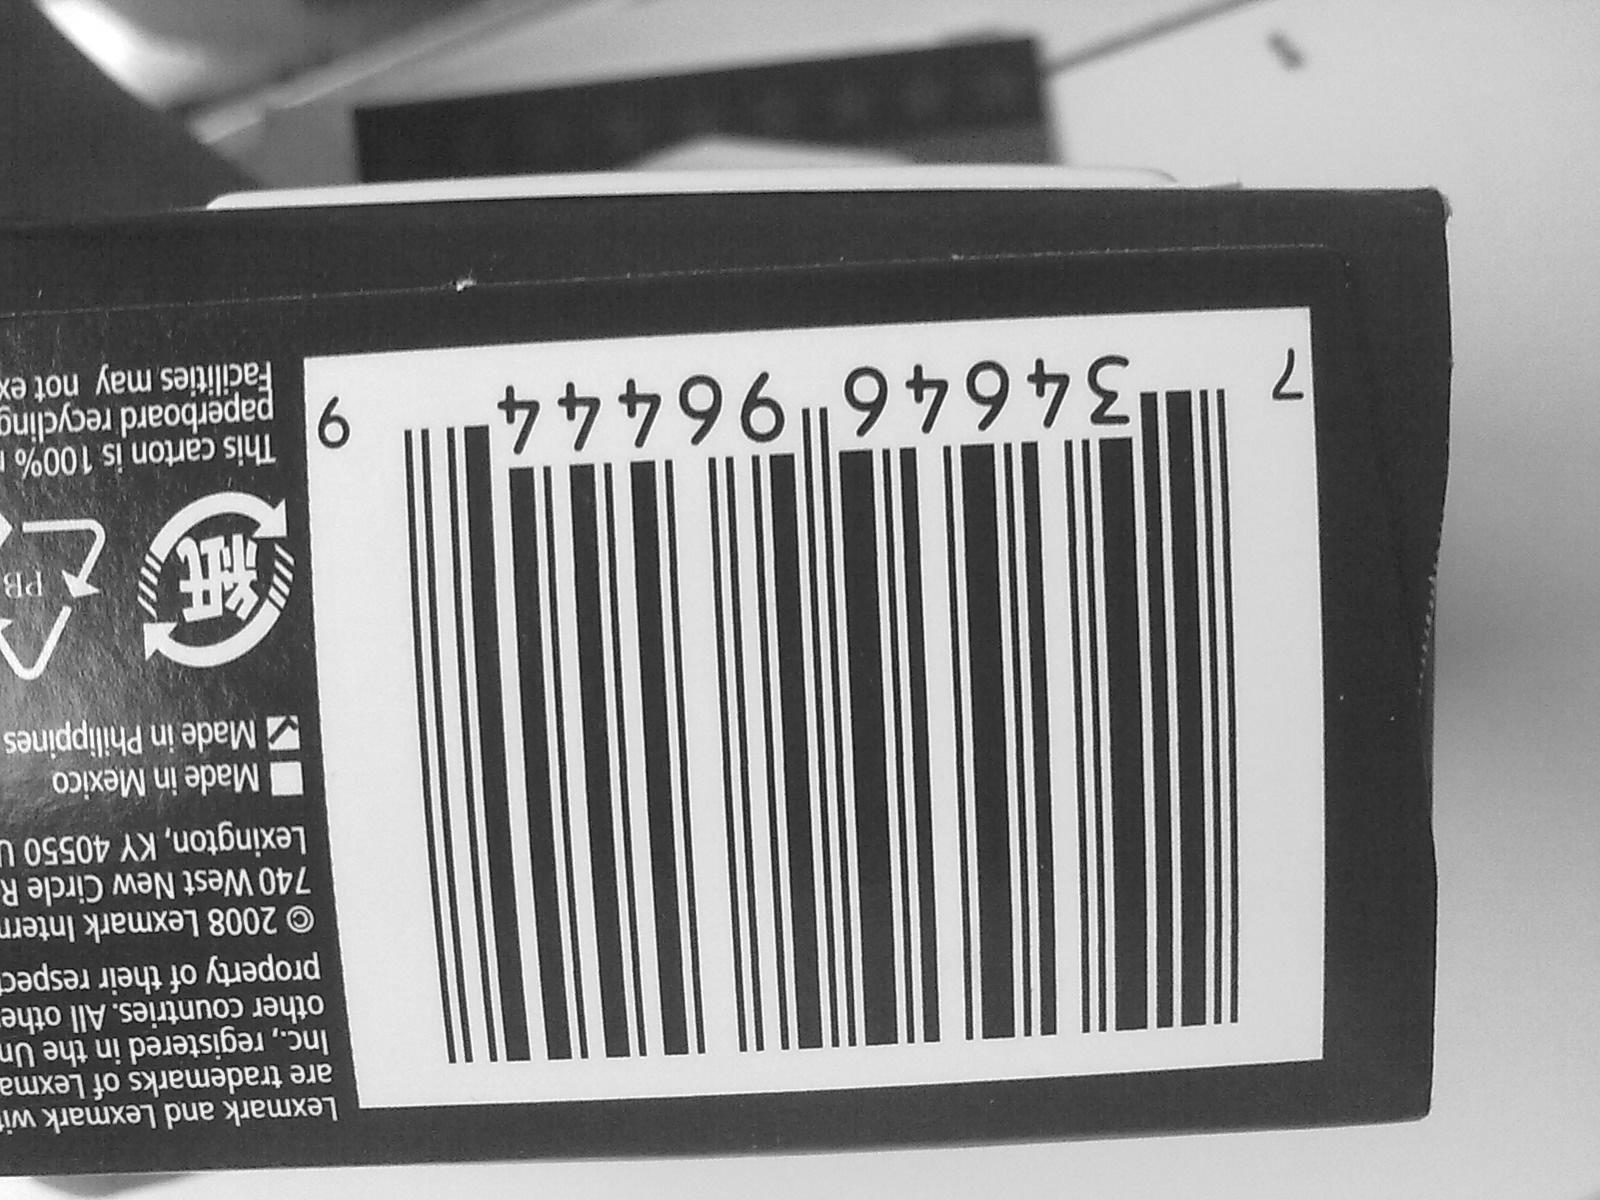Barcode: (362, 327, 1301, 1066)
